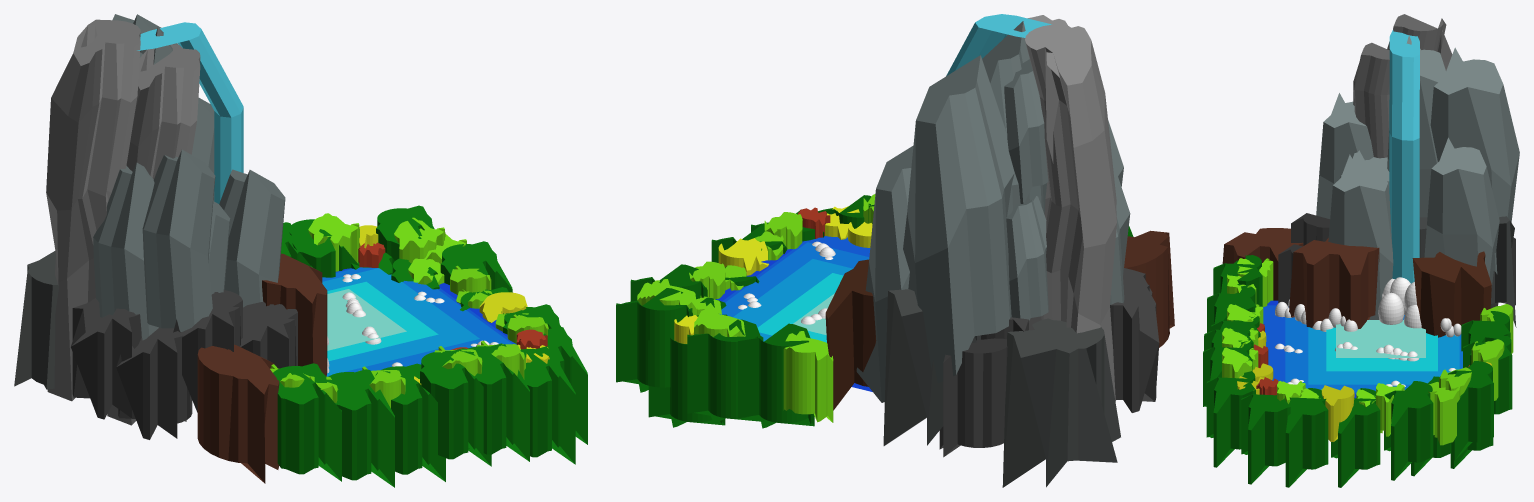
The model's file is waterfall.fbx.
The picture shows the model from 3 angles, left to right: view 1: azimuth 30°, elevation 25°; view 2: azimuth 150°, elevation 25°; view 3: azimuth 270°, elevation 25°; orthographic projection. The views are drawn at different scales.
Parts seen in each view (by area): view 1: Cylinder.011, Cylinder.018, Cylinder.024, Cylinder.013, Cylinder.019, Cylinder.001, Cylinder.042, Cylinder.017, Cylinder.016, Cylinder.031, Cylinder, Cylinder.047 (+28 smaller); view 2: Cylinder.008, Cylinder.011, Cylinder.012, Cylinder.007, Cylinder.002, Cylinder.022, Cylinder.017, Cylinder.051, Cylinder.003, Cylinder.034, Cylinder.036, Cylinder.020 (+20 smaller); view 3: Cylinder.008, Cylinder, Cylinder.002, Cylinder.004, Cylinder.001, Cylinder.003, Cylinder.059, Cylinder.018, Cylinder.062, Cylinder.061, Cylinder.013, Plane.003 (+34 smaller).
Part boxes in pixels (box(x1,y1,x2,y2)): Cylinder.011: box(46, 19, 140, 401); Cylinder.018: box(142, 149, 215, 331); Cylinder.024: box(197, 344, 279, 483); Cylinder.013: box(107, 44, 200, 425); Cylinder.019: box(93, 163, 158, 340); Cylinder.001: box(219, 169, 285, 307); Cylinder.042: box(273, 363, 341, 481); Cylinder.017: box(71, 298, 141, 419); Cylinder.016: box(116, 327, 192, 439); Cylinder.031: box(326, 369, 394, 487); Cylinder: box(137, 22, 243, 203); Cylinder.047: box(420, 348, 491, 466); Cylinder.008: box(903, 55, 1014, 383); Cylinder.011: box(1025, 22, 1116, 401); Cylinder.012: box(1002, 318, 1120, 487); Cylinder.007: box(883, 289, 980, 445); Cylinder.002: box(856, 145, 913, 402); Cylinder.022: box(939, 338, 1007, 457); Cylinder.017: box(1110, 278, 1159, 412); Cylinder.051: box(616, 288, 692, 392); Cylinder.003: box(825, 259, 876, 410); Cylinder.034: box(738, 323, 814, 428); Cylinder.036: box(687, 319, 763, 423); Cylinder.020: box(1006, 196, 1048, 320); Cylinder.008: box(1430, 47, 1519, 274); Cylinder: box(1389, 30, 1419, 283); Cylinder.002: box(1424, 137, 1499, 287); Cylinder.004: box(1289, 238, 1379, 328); Cylinder.001: box(1328, 154, 1393, 319); Cylinder.003: box(1412, 251, 1491, 337); Cylinder.059: box(1384, 381, 1433, 480); Cylinder.018: box(1316, 93, 1373, 218); Cylinder.062: box(1241, 394, 1290, 484); Cylinder.061: box(1285, 388, 1328, 487); Cylinder.013: box(1353, 42, 1389, 158); Plane.003: box(1308, 327, 1459, 384).
Size of the model in its own units: 1144 by 1015 by 883.
